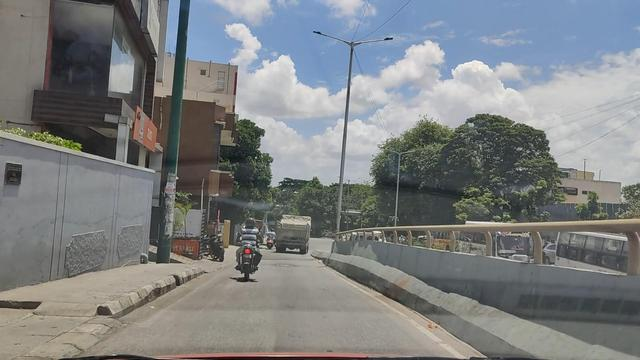HMV: (272, 207, 314, 259)
LMV: (231, 210, 272, 283)
